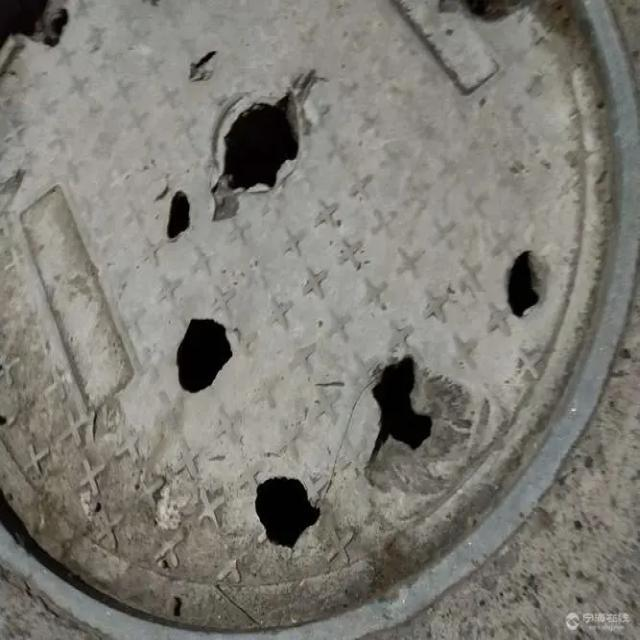manhole: (1, 0, 640, 640)
